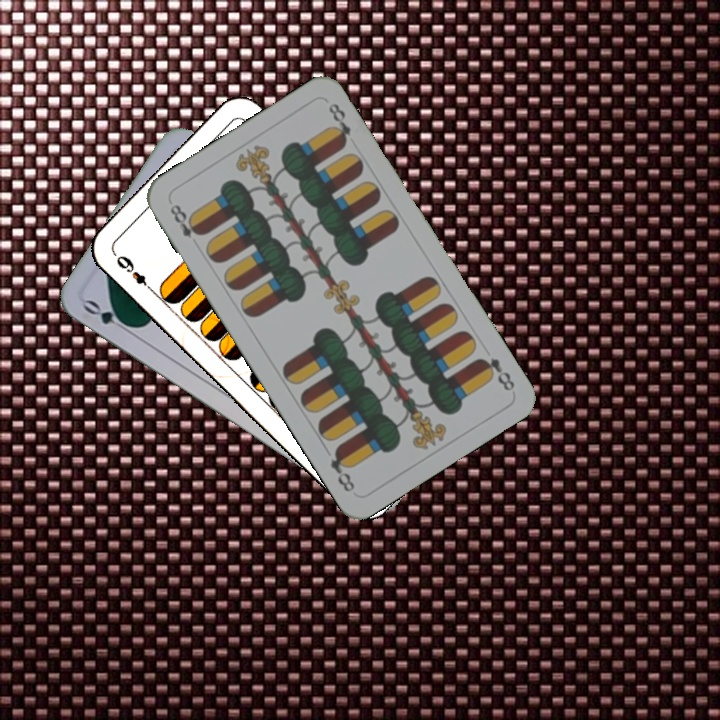E8: (474, 353, 518, 394), (166, 200, 206, 242)
E9: (110, 250, 157, 296)
GO: (79, 295, 136, 336)
